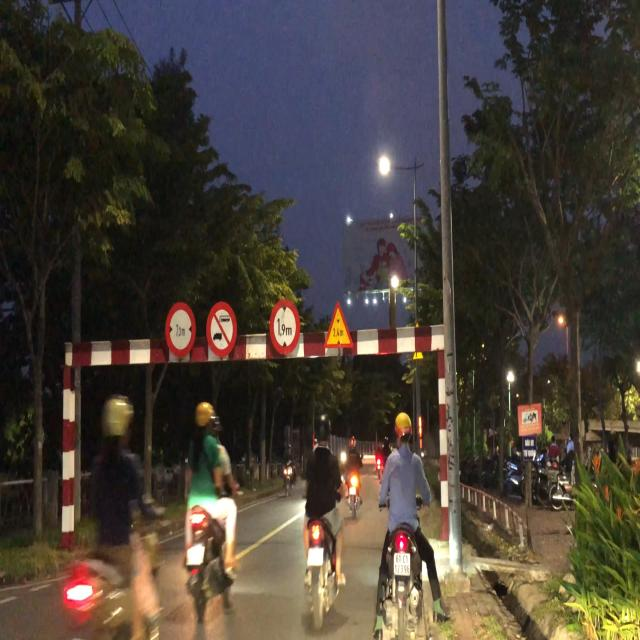Bien bao cam xe oto khach va xe oto tai: (205, 298, 240, 364)
Bien bao chieu cao tinh khong thuc te: (319, 299, 362, 357)
Bien bao han che chieu cao: (266, 293, 304, 362)
